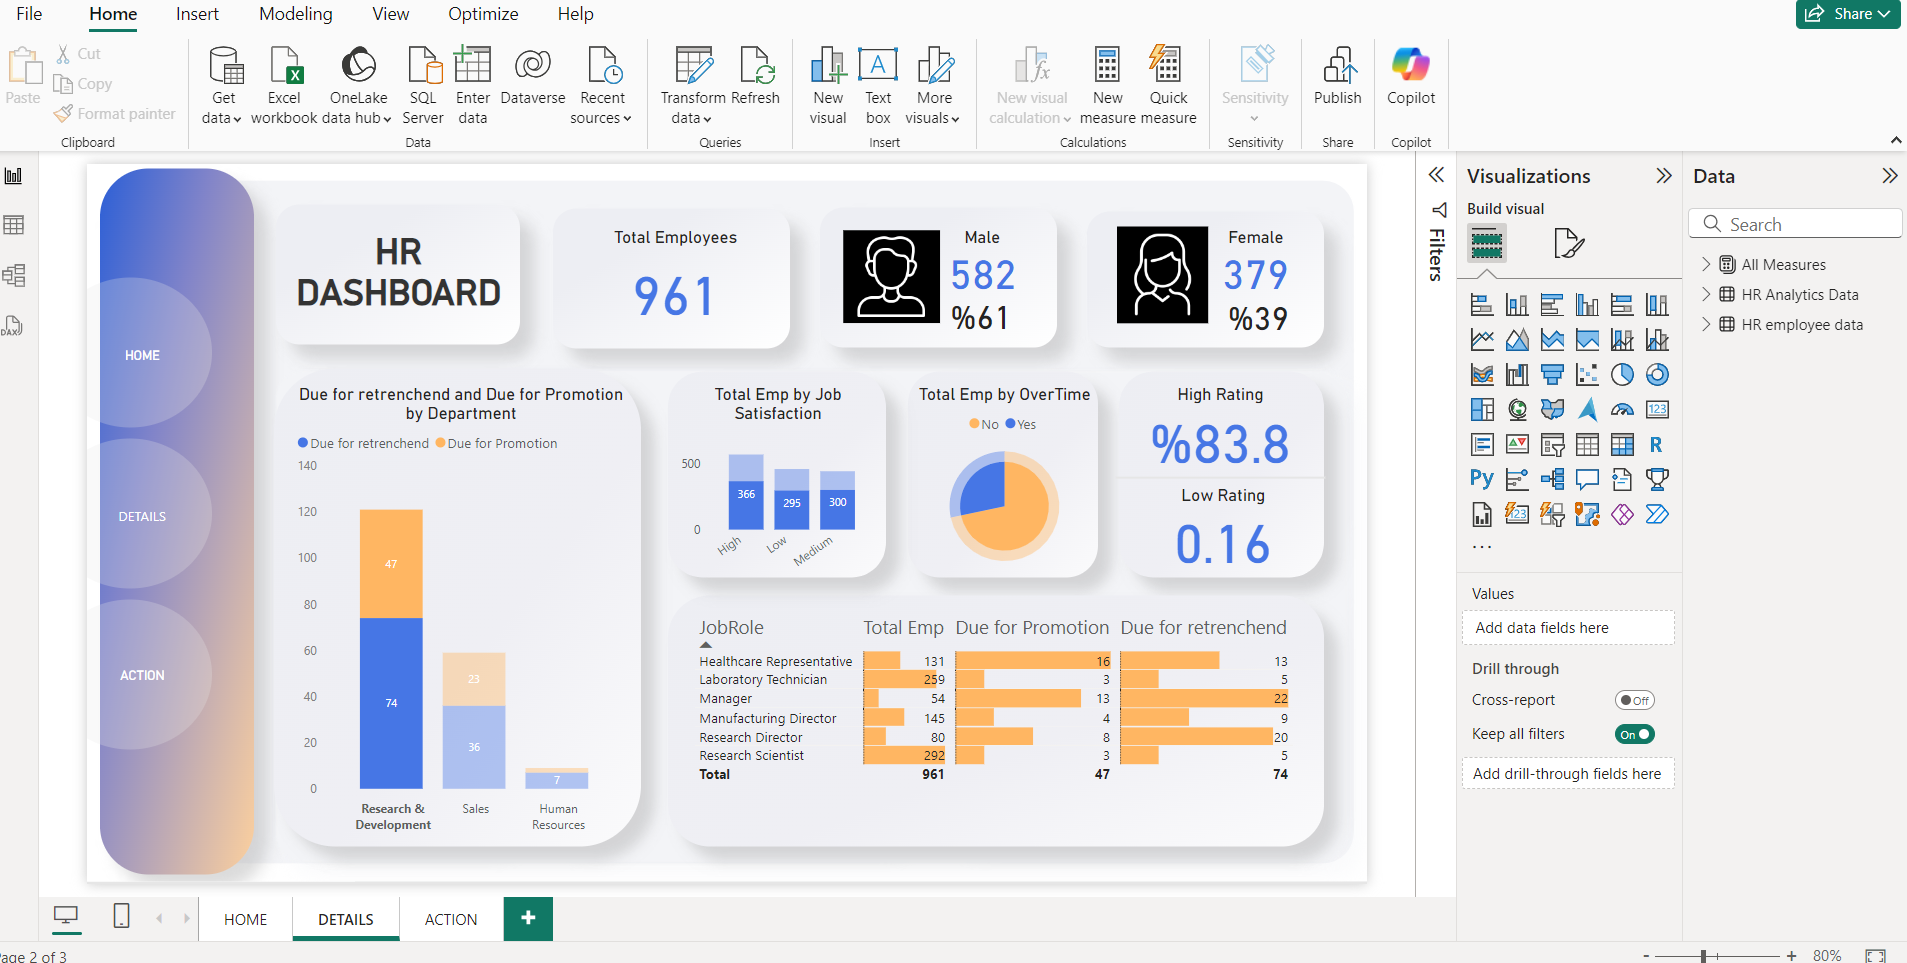

The dashboard page shown, as its layout file describes it:
{"tool":"powerbi","page":{"name":"DETAILS","canvas":[1280,720],"ordinal":1},"visuals":[{"type":"columnChart","fields":{"Category":["HR Analytics Data.Department"],"Y":["All Measures.Due for retrenchend","All Measures.Due for Promotion"]},"box":[205.5,219.5,338,455.7],"z":0},{"type":"columnChart","fields":{"Category":["HR Analytics Data.Job Satisfaction"],"Y":["All Measures.Total Emp"]},"box":[589.2,219.5,204.6,203.7],"z":1000},{"type":"pieChart","fields":{"Y":["All Measures.Total Emp"],"Category":["HR Analytics Data.OverTime"]},"box":[823.6,219.5,187.9,195.8],"z":2000},{"type":"tableEx","fields":{"Values":["HR Analytics Data.JobRole","All Measures.Total Emp","All Measures.Due for Promotion","All Measures.Due for retrenchend"]},"box":[601.5,445.2,618.1,230],"z":3000},{"type":"shape","box":[1029.1,307.3,209.9,12.3],"z":4000},{"type":"card","title":"Low Rating","fields":{"Values":["All Measures.% Low emp rating"]},"box":[1064.2,321.4,144.9,85.2],"z":5000},{"type":"card","title":"High Rating","fields":{"Values":["All Measures.% High emp rating"]},"box":[1057.2,219.5,151.9,86.9],"z":6000},{"type":"card","title":"Total Employees","fields":{"Values":["All Measures.Total Emp"]},"box":[510.1,62.3,157.2,106.2],"z":7000},{"type":"card","title":"Male","fields":{"Values":["All Measures.Male"]},"box":[830.6,62.3,128.2,69.4],"z":8000},{"type":"card","title":"Female","fields":{"Values":["All Measures.Female"]},"box":[1102.8,62.3,132.6,69.4],"z":9000},{"type":"card","fields":{"Values":["All Measures.% Male"]},"box":[855.2,127.3,78.1,48.3],"z":10000},{"type":"card","fields":{"Values":["All Measures.% Female"]},"box":[1132.7,127.3,78.1,49.2],"z":11000},{"type":"pageNavigator","box":[6.1,116.8,98.3,470.6],"z":12000},{"type":"textbox","title":"HR DASHBOARD","box":[197.6,65.9,228.3,109.8],"z":13000},{"type":"image","box":[756,65.9,96.6,93.1],"z":14000},{"type":"image","box":[1030,62.3,91.3,96.6],"z":15000}]}

Visuals, with their boxes on the page's 1280x720 design canvas (x1, y1, x2, y2). These are canvas units, not pixel positions in the 1907x963 screenshot, which may show the page scaled, cropped or inside an application window:
columnChart - HR Analytics Data.Department x All Measures.Due for retrenchend: Rect(206, 220, 544, 675)
columnChart - HR Analytics Data.Job Satisfaction x All Measures.Total Emp: Rect(589, 220, 794, 423)
pieChart - All Measures.Total Emp x HR Analytics Data.OverTime: Rect(824, 220, 1012, 415)
tableEx - HR Analytics Data.JobRole x All Measures.Total Emp: Rect(602, 445, 1220, 675)
shape: Rect(1029, 307, 1239, 320)
"Low Rating" card: Rect(1064, 321, 1209, 407)
"High Rating" card: Rect(1057, 220, 1209, 306)
"Total Employees" card: Rect(510, 62, 667, 168)
"Male" card: Rect(831, 62, 959, 132)
"Female" card: Rect(1103, 62, 1235, 132)
card - All Measures.% Male: Rect(855, 127, 933, 176)
card - All Measures.% Female: Rect(1133, 127, 1211, 176)
pageNavigator: Rect(6, 117, 104, 587)
"HR DASHBOARD" textbox: Rect(198, 66, 426, 176)
image: Rect(756, 66, 853, 159)
image: Rect(1030, 62, 1121, 159)
